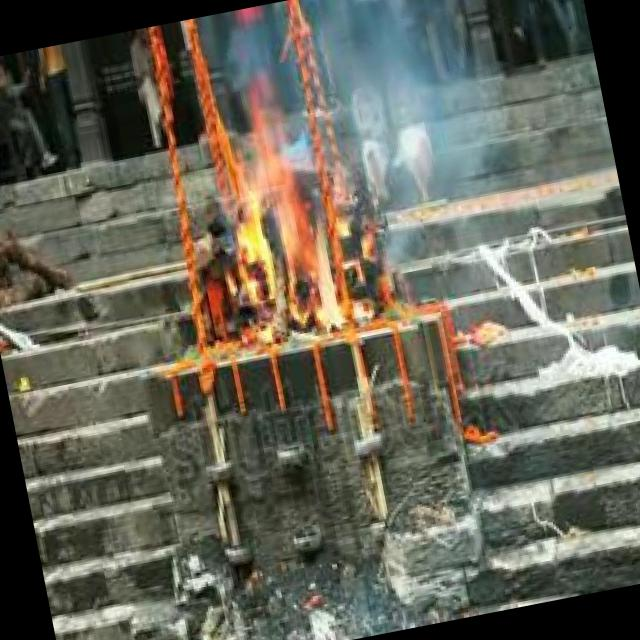Fire: (217, 88, 366, 344)
